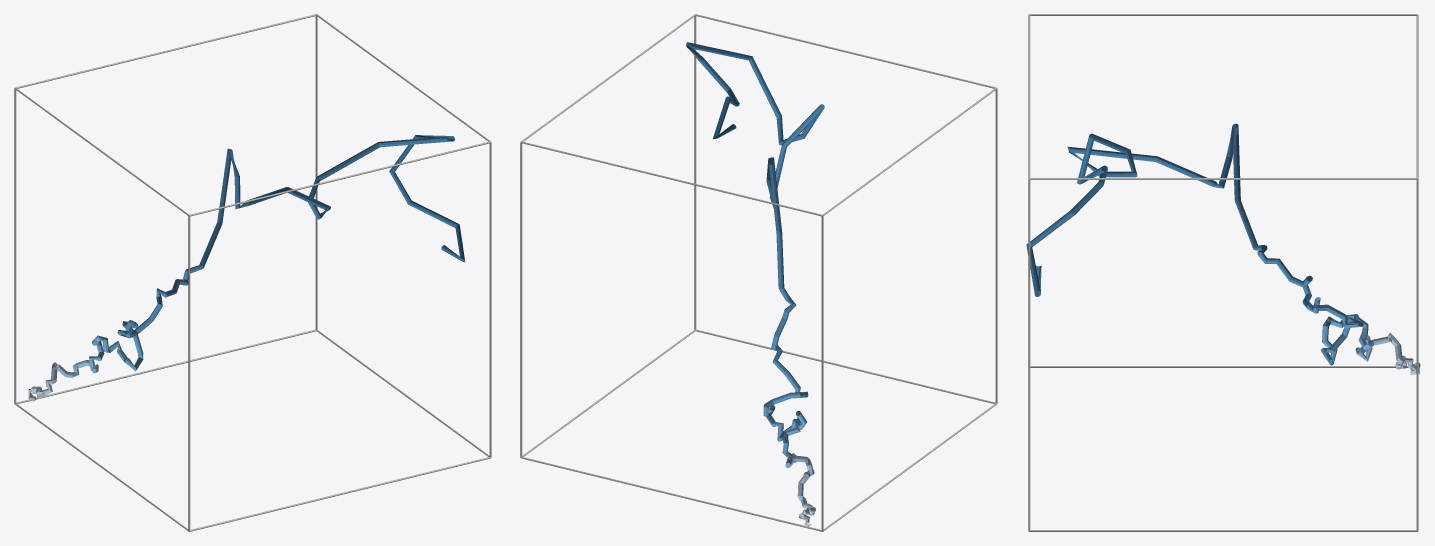
3 views of the same model, side by side, from view 1: azimuth 30°, elevation 25°; view 2: azimuth 150°, elevation 25°; view 3: azimuth 270°, elevation 25° (orthographic). The views are drawn at different scales.
Parts seen in each view (by area): view 1: geometry_1, geometry_0; view 2: geometry_1, geometry_0; view 3: geometry_0, geometry_1.
Part boxes in pixels (x1,y1,x2,y2): geometry_1: [14, 14, 491, 531]; geometry_0: [28, 135, 465, 401]; geometry_1: [520, 14, 997, 531]; geometry_0: [686, 42, 824, 527]; geometry_0: [1026, 123, 1420, 374]; geometry_1: [1028, 14, 1418, 531].
Bounding box in the file's own units: 0.3016 × 0.3014 × 0.3047.
